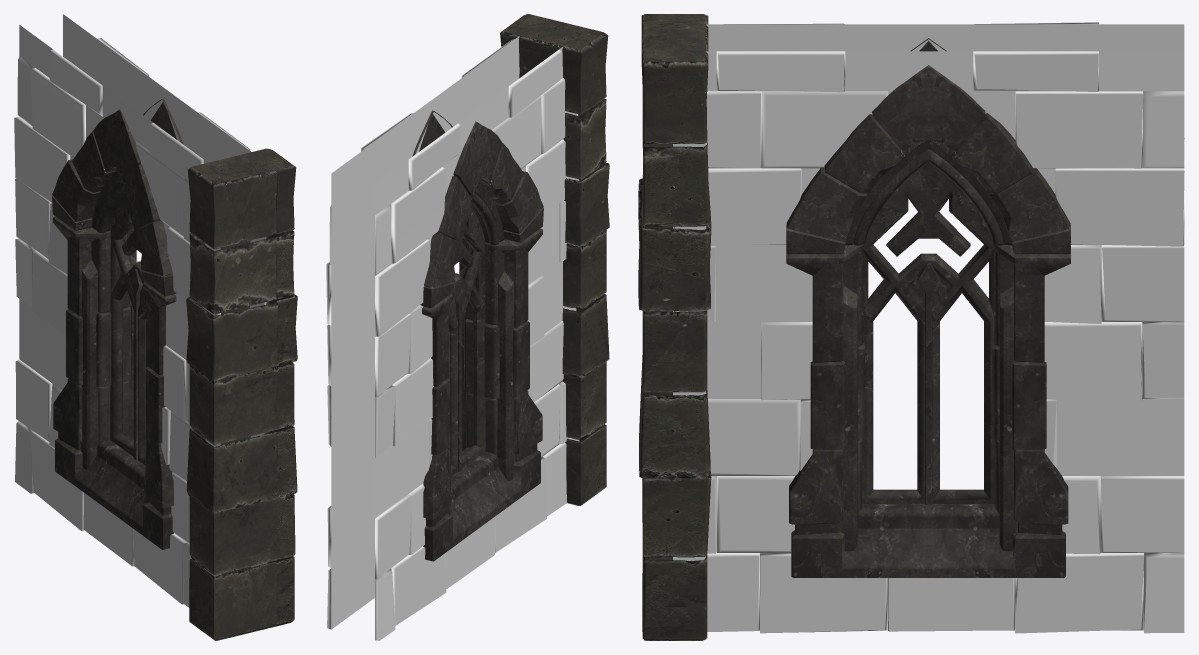
The picture shows the model from 3 angles, left to right: view 1: azimuth 30°, elevation 25°; view 2: azimuth 150°, elevation 25°; view 3: azimuth 270°, elevation 25°; orthographic projection. The views are drawn at different scales.
Visible parts, largest first — view 1: SM_Greathall_Wall_8x10_01_LOD0; view 2: SM_Greathall_Wall_8x10_01_LOD0; view 3: SM_Greathall_Wall_8x10_01_LOD0.
Part boxes in pixels (left/top/right/bottom): SM_Greathall_Wall_8x10_01_LOD0: left=14, top=14, right=297, bottom=640; SM_Greathall_Wall_8x10_01_LOD0: left=326, top=14, right=609, bottom=640; SM_Greathall_Wall_8x10_01_LOD0: left=638, top=14, right=1184, bottom=640.
Bounding box in the file's own units: 1.99 × 10 × 8.54.
3 materials, 2 textured.
